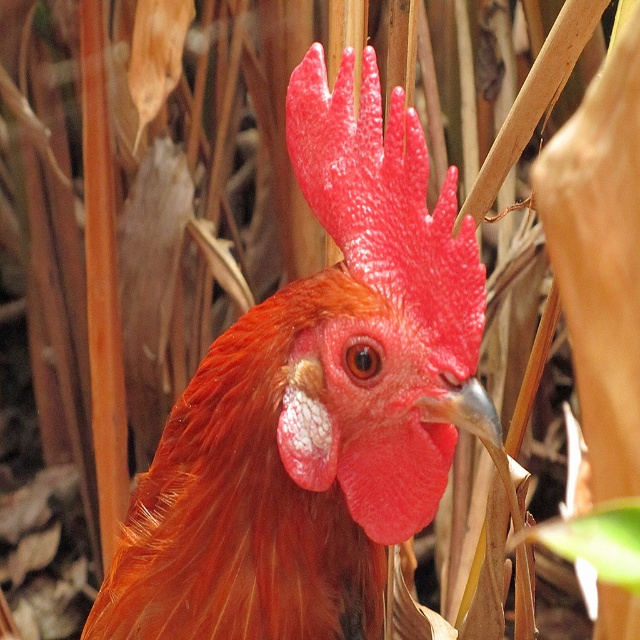Chicken: (80, 42, 503, 640)
